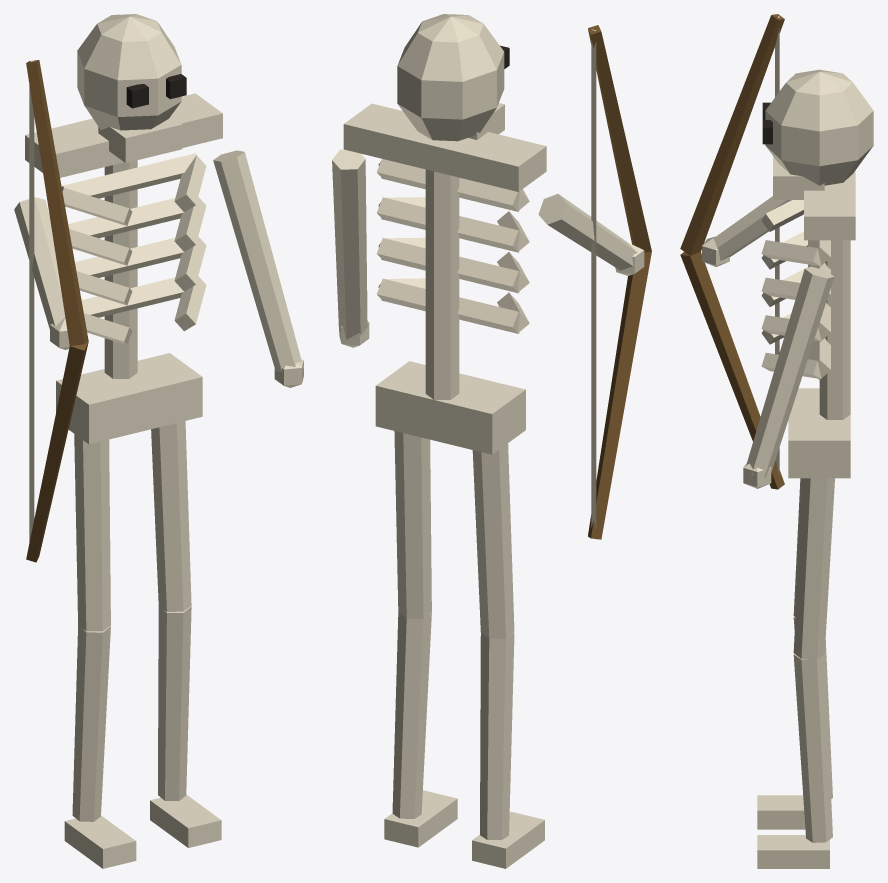
File: bogner.glb
3 renders of one model, left to right at view 1: azimuth 30°, elevation 25°; view 2: azimuth 150°, elevation 25°; view 3: azimuth 270°, elevation 25°, orthographic. The views are drawn at different scales.
Size of the model in its own units: 0.5717 by 1.64 by 0.3735.
1 material, 1 textured.
